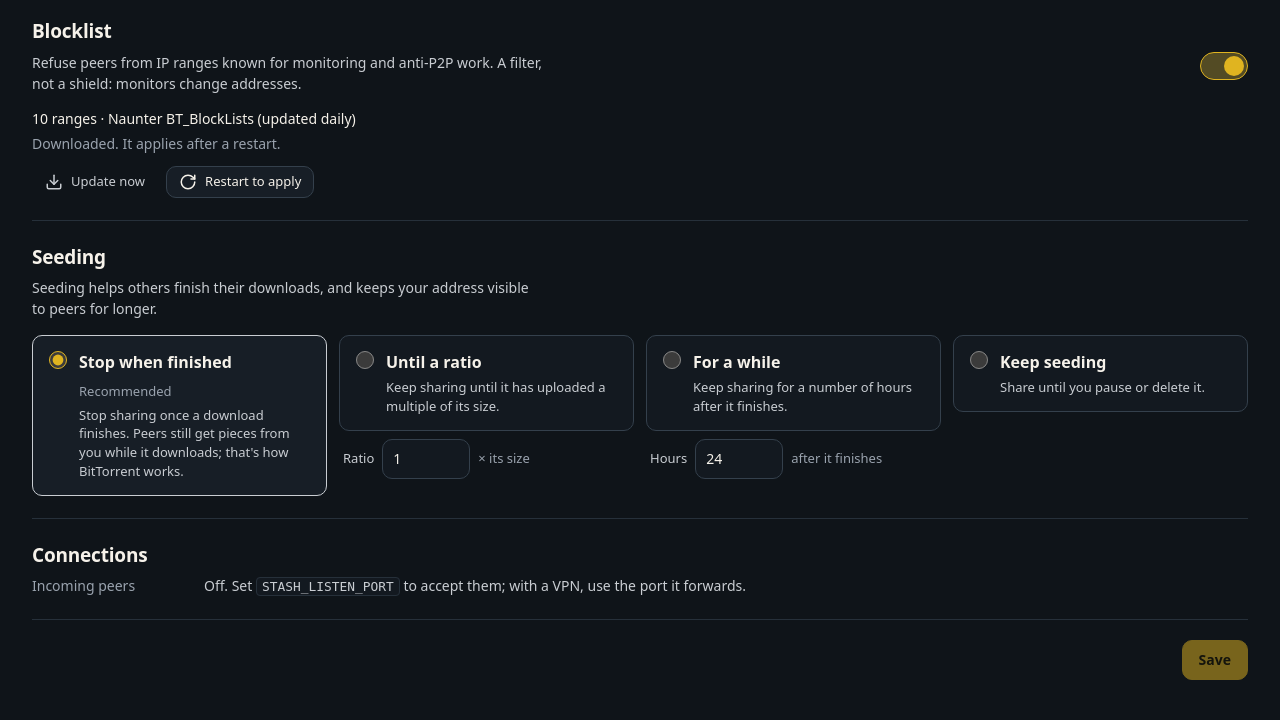
it: Privacy page › a seeding-only save applies at once: one PUT, one GET, no restart wait
(page scrolled)
Click the radio button labelled "Until a ratio" at (365,360), box left=356, top=351, right=374, bottom=369
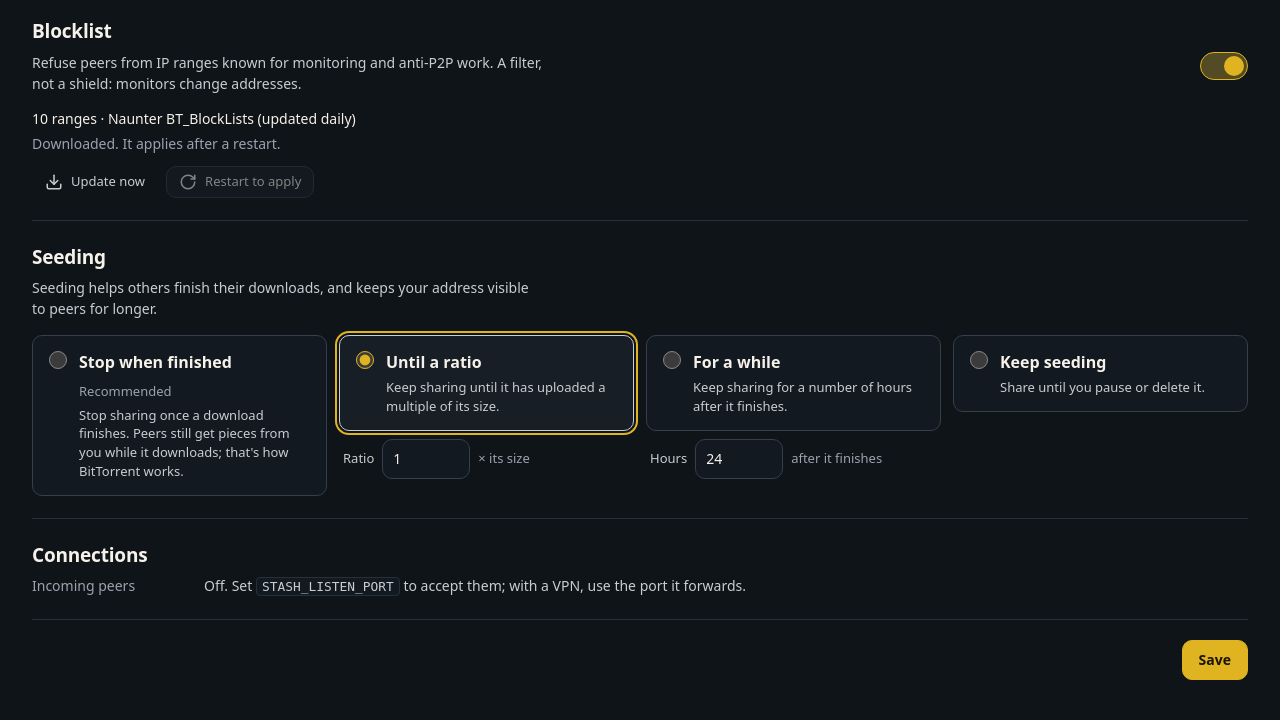
Type "1,5" into the field labelled "Ratio" at (426,459), box left=382, top=439, right=470, bottom=479
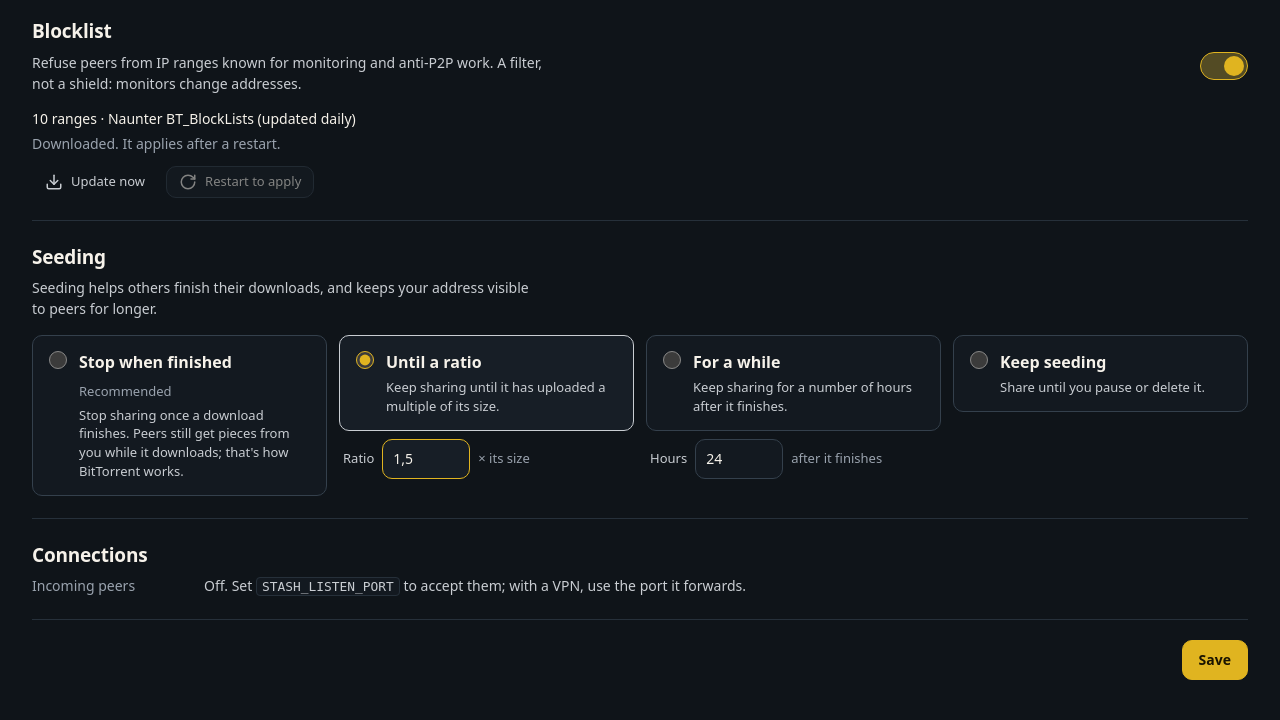
Click the button "Save" at (1215,660), box left=1182, top=640, right=1248, bottom=680
Wait 80000 ms
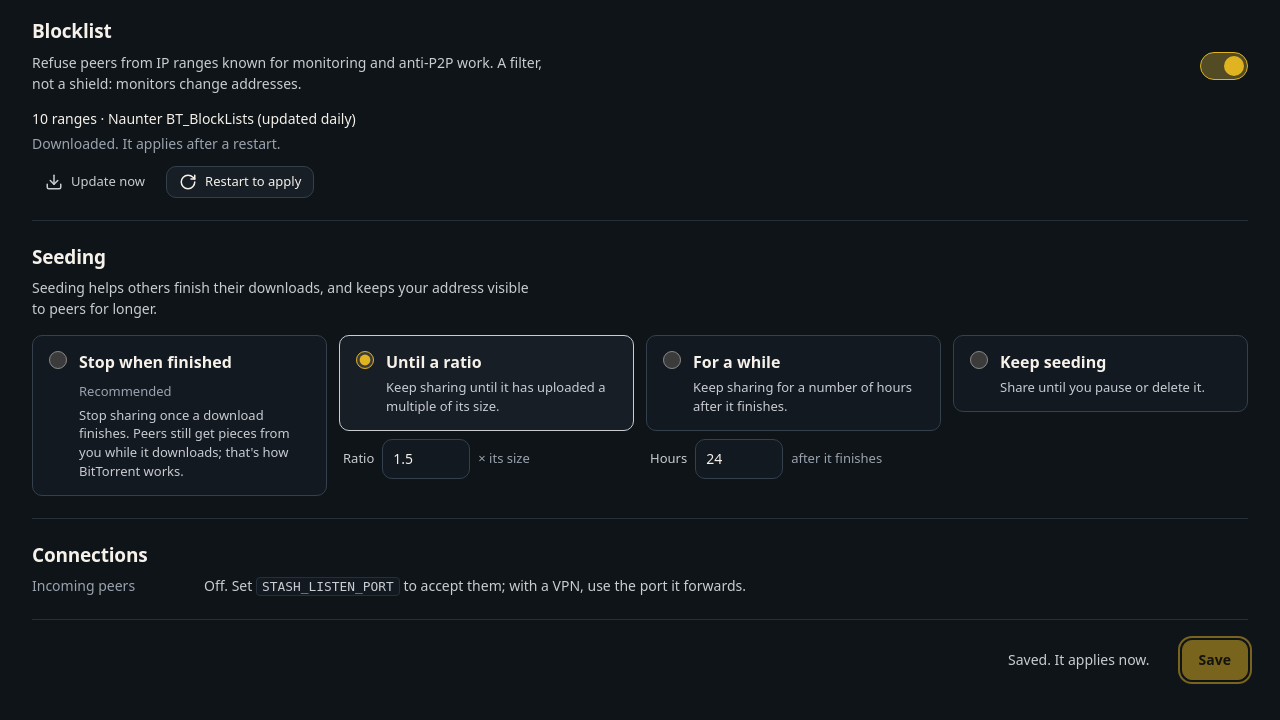
Now the text "Saved. It applies now." is shown, box left=1008, top=649, right=1150, bottom=670
